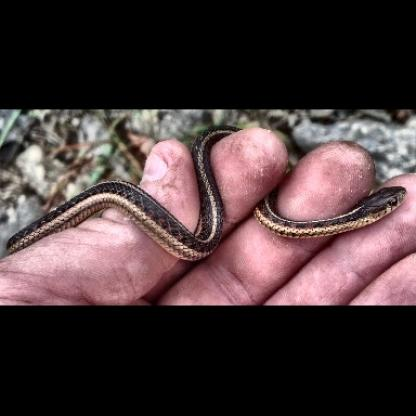Snake: (6, 128, 408, 260)
